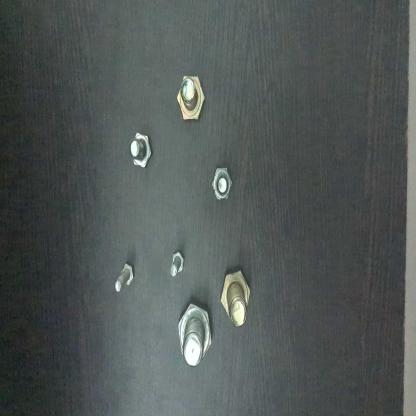Bolts: (173, 300, 214, 375), (218, 265, 258, 340), (173, 70, 208, 129), (125, 126, 155, 179), (112, 258, 141, 300), (210, 158, 233, 206), (168, 247, 189, 283)
